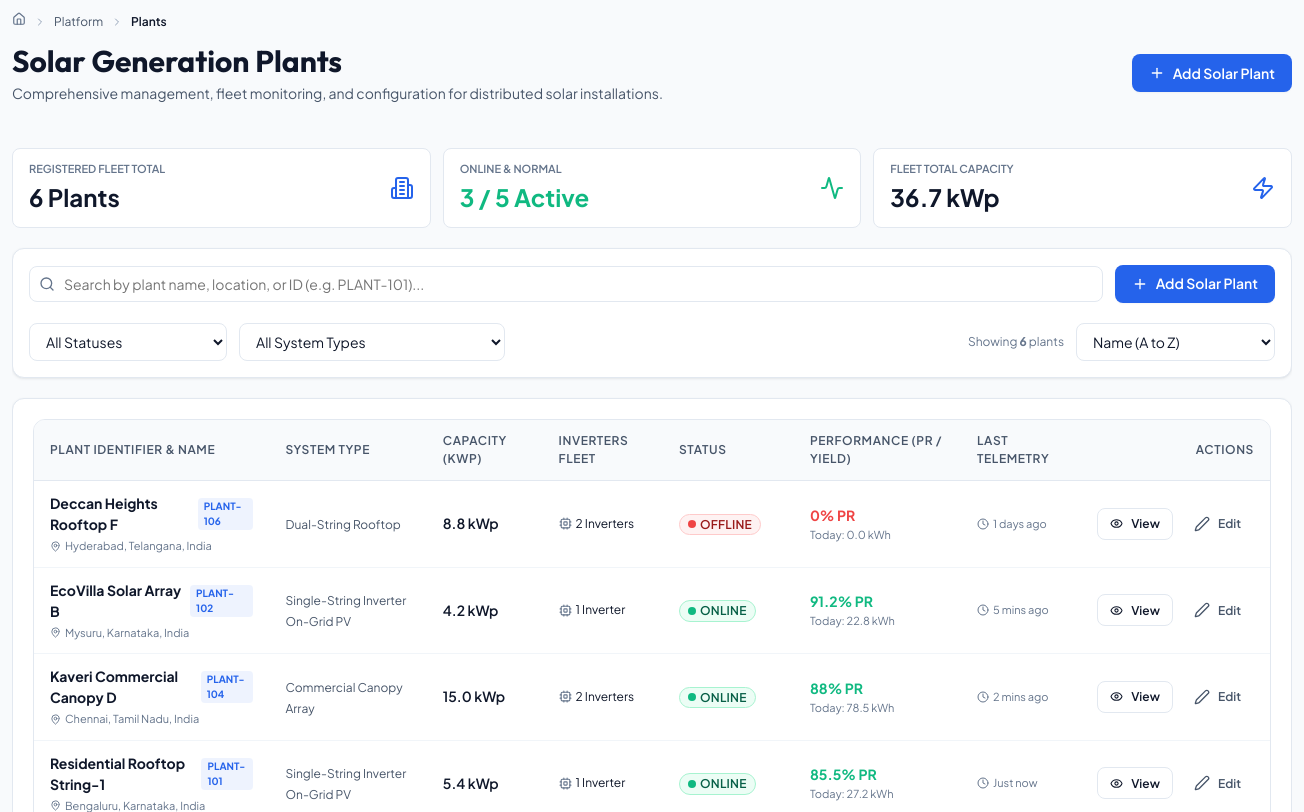
PlantsPage Component & Filter Suite › filters plants list when selecting operational status
This screenshot has width=1304, height=812.
Check: the text "Residential Rooftop String-1" is shown, box x1=50 y1=752 x2=196 y2=794
Select "Warning / Anomaly" in the dropdown named "Filter by operational status". click: coordinates (128, 342)
box: x1=29 y1=323 x2=227 y2=361
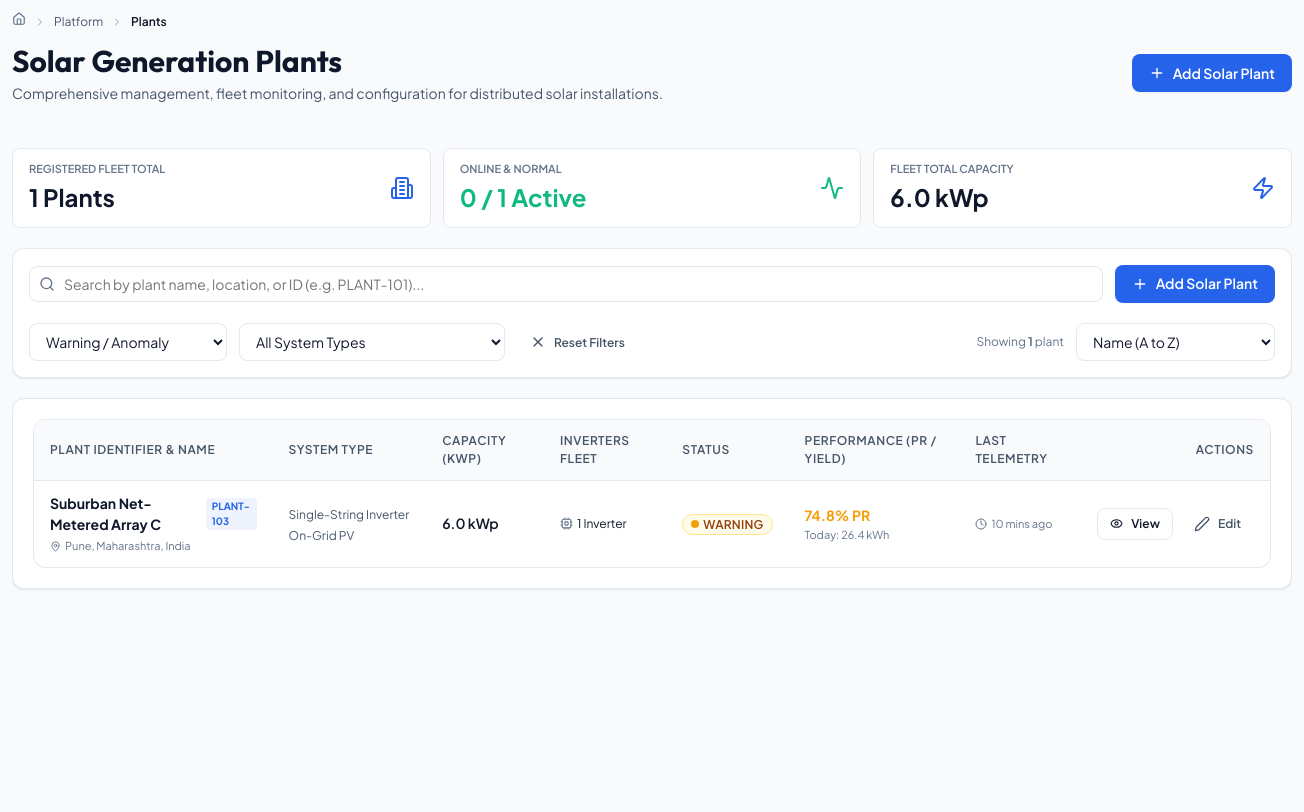
Check: the text "Suburban Net-Metered Array C" is shown, box x1=50 y1=494 x2=161 y2=533
Check: the text "Residential Rooftop String-1" is gone
